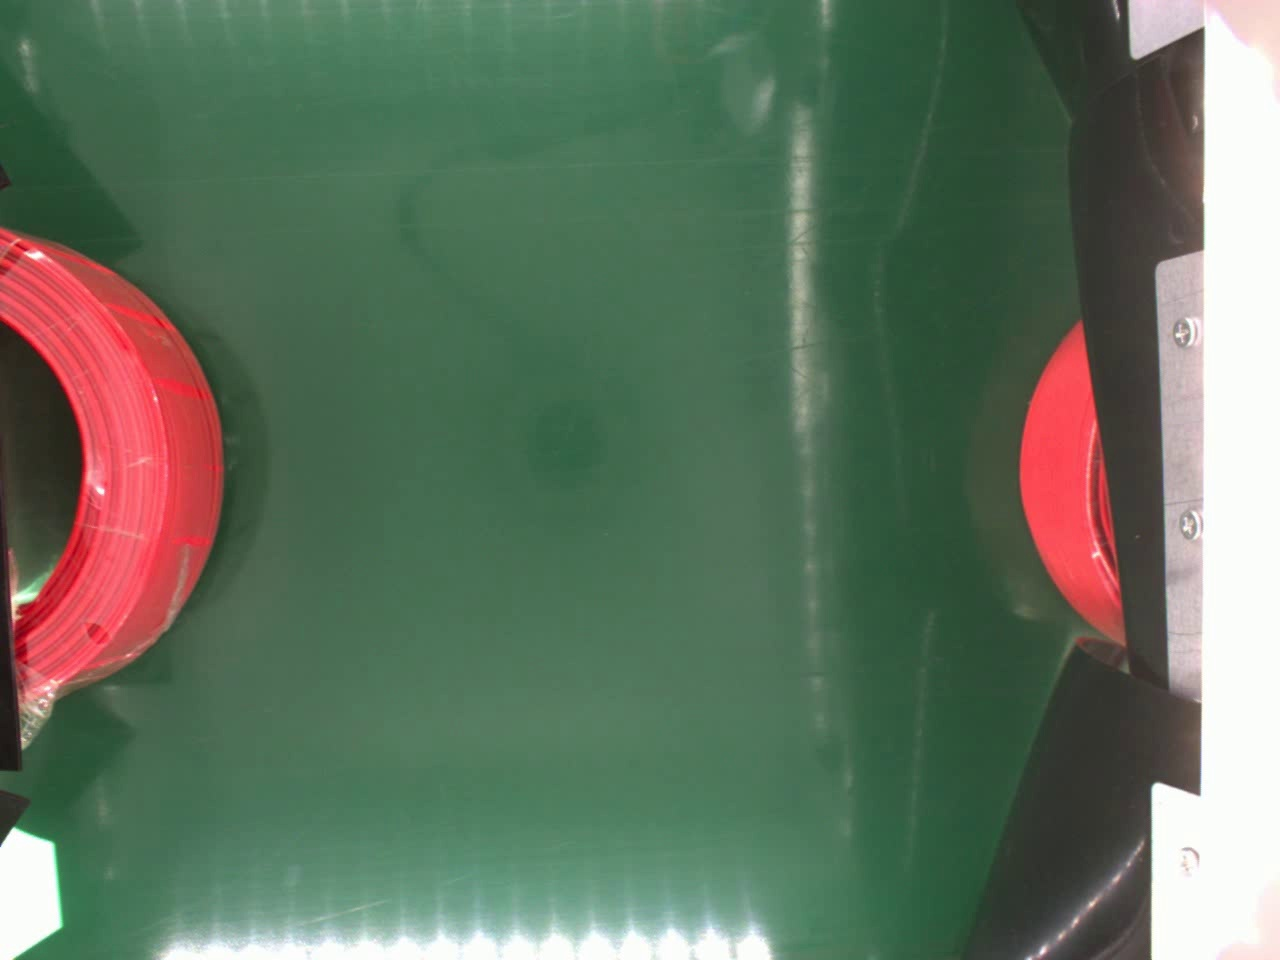red: (0, 222, 228, 704), (1017, 312, 1121, 644)
